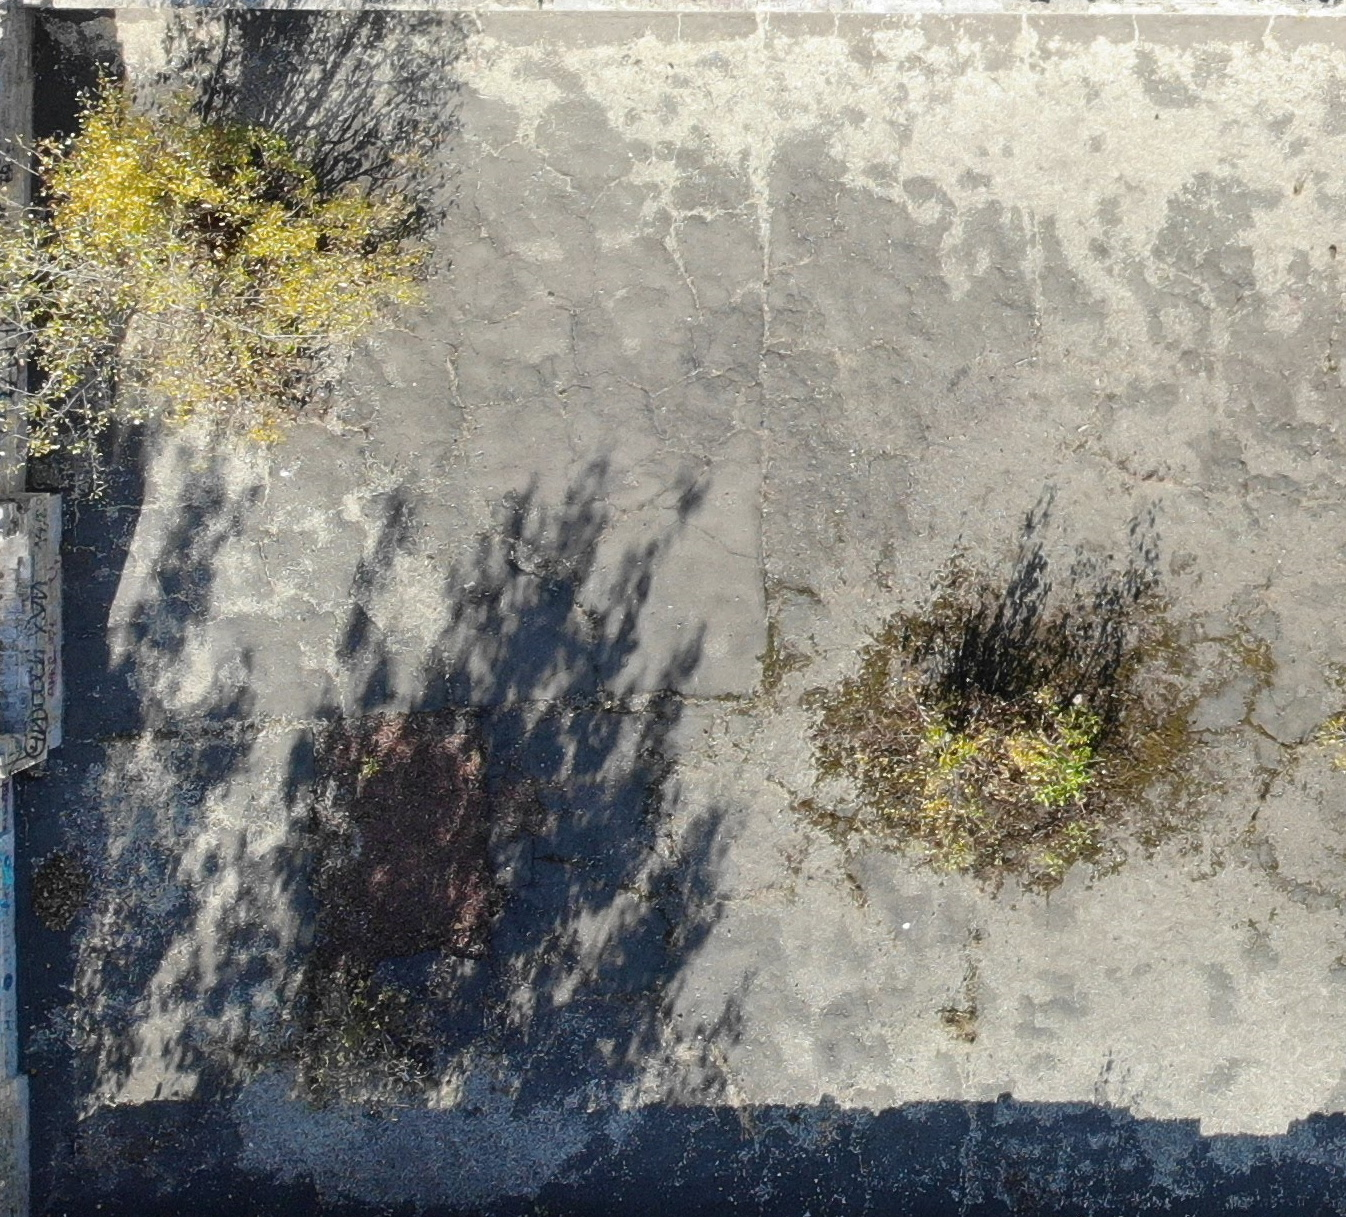tree: (27, 67, 433, 484), (871, 637, 1129, 883)
